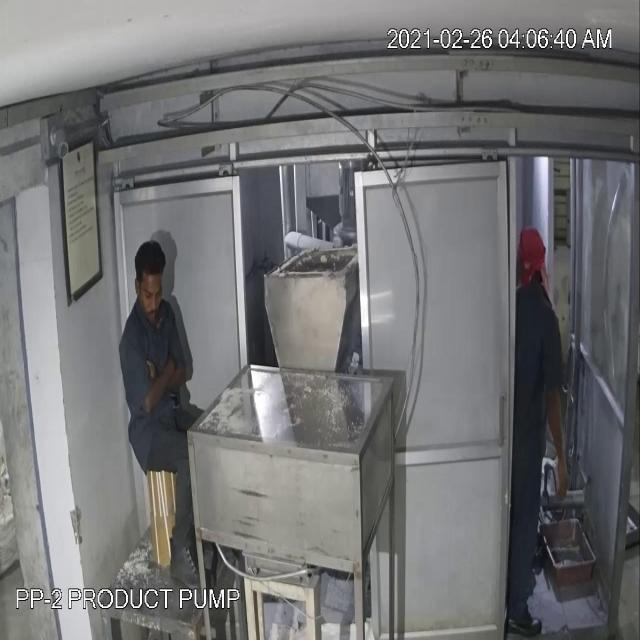no-helmet: (130, 228, 168, 292)
